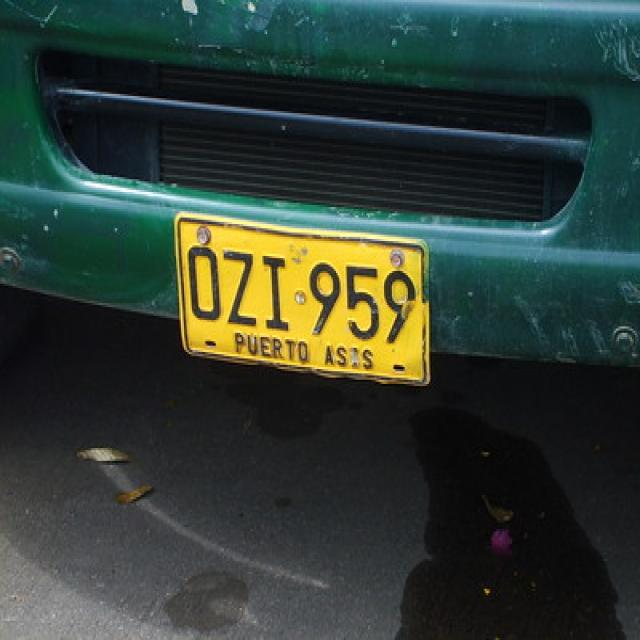placa_carro: (166, 197, 470, 420)
